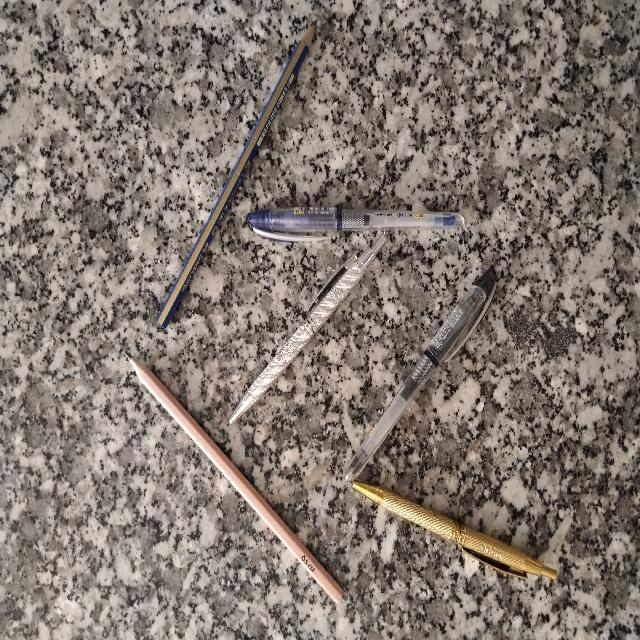pen: (345, 266, 496, 481), (248, 207, 464, 241)
pencil: (127, 356, 342, 602), (156, 26, 314, 327)
signature pen: (229, 235, 386, 423), (353, 482, 556, 578)
